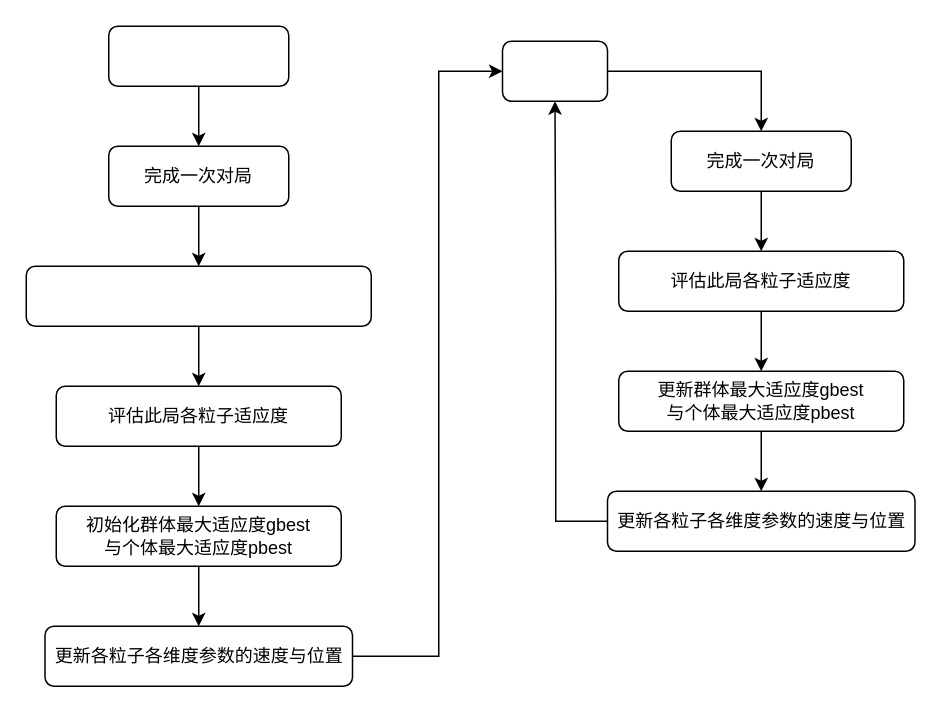
The diagram is 942 pixels wide and 713 high, and some of its shapes have lost their labels. Here are the shapes that lost their labels. From the top down, the box of each, then its label:
(107, 25, 289, 86): PSO_recurr()
(501, 40, 608, 101): 循环
(25, 265, 371, 326): 初始化每个粒子各个参数的位置与速度
